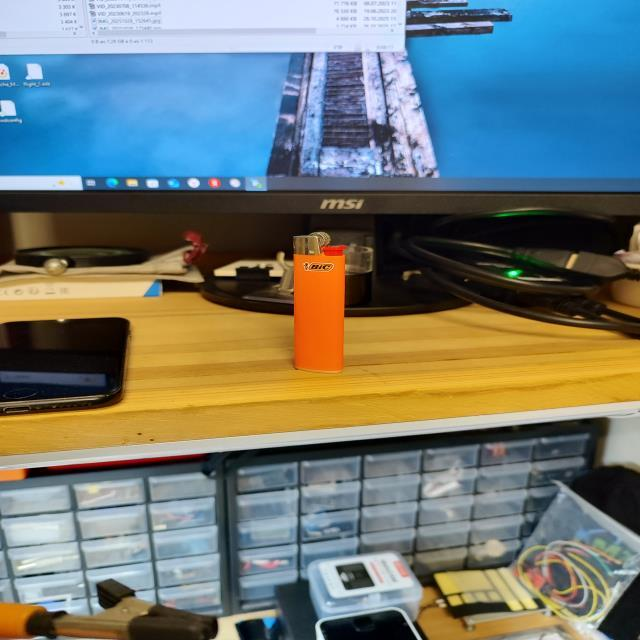lighter: (294, 232, 345, 371)
